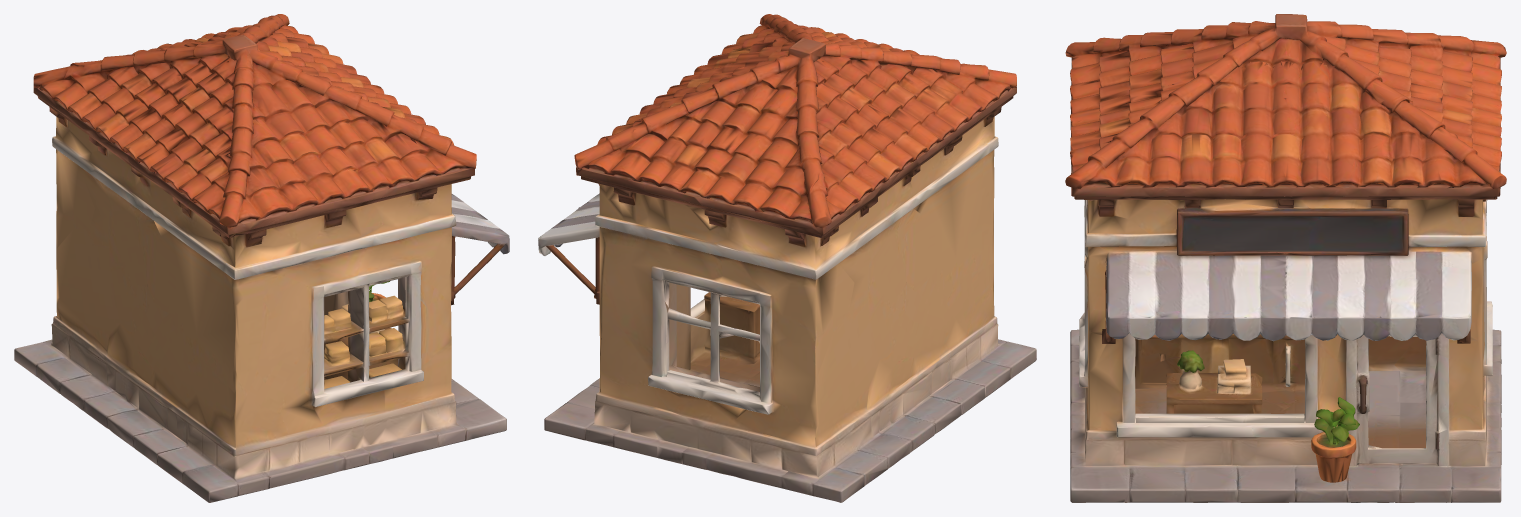
The model's file is escritorio-loja.glb.
The picture shows the model from 3 angles, left to right: view 1: azimuth 30°, elevation 25°; view 2: azimuth 150°, elevation 25°; view 3: azimuth 270°, elevation 25°; orthographic projection. The views are drawn at different scales.
Visible parts, largest first — view 1: tripo_node_3b38a8b0-6ad0-4db6-a3d5-6a7676c9b235; view 2: tripo_node_3b38a8b0-6ad0-4db6-a3d5-6a7676c9b235; view 3: tripo_node_3b38a8b0-6ad0-4db6-a3d5-6a7676c9b235.
Part boxes in pixels (left/top/right/bottom): tripo_node_3b38a8b0-6ad0-4db6-a3d5-6a7676c9b235: left=14, top=14, right=509, bottom=502; tripo_node_3b38a8b0-6ad0-4db6-a3d5-6a7676c9b235: left=538, top=14, right=1036, bottom=502; tripo_node_3b38a8b0-6ad0-4db6-a3d5-6a7676c9b235: left=1065, top=14, right=1506, bottom=502.
Bounding box in the file's own units: 0.9332 × 1 × 1.02.
Materials: 1 (1 with a texture image).
